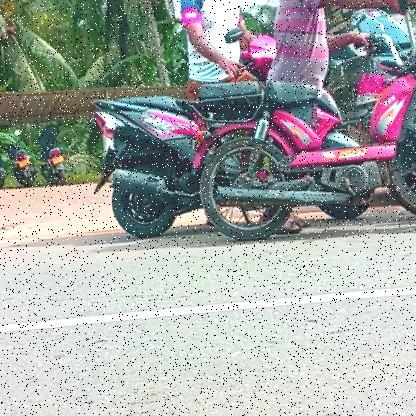motorcycle: (163, 0, 416, 246), (69, 74, 205, 244), (38, 124, 78, 193), (5, 128, 40, 194), (0, 128, 8, 194)
